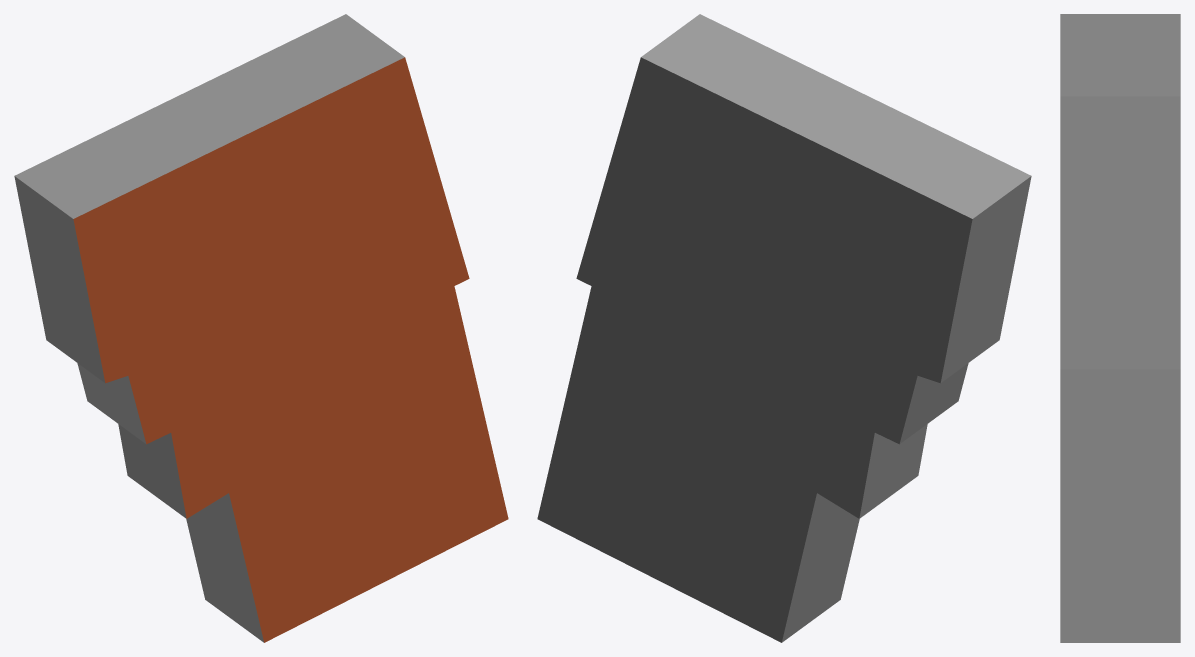
Rendered from construction_6741_assumed_A_Casa_h6m.obj.
3 views of the same model, side by side, from view 1: azimuth 30°, elevation 25°; view 2: azimuth 150°, elevation 25°; view 3: azimuth 270°, elevation 25° (orthographic).
Visible parts, largest first — view 1: construction_6741_assumed_A_Casa; view 2: construction_6741_assumed_A_Casa; view 3: construction_6741_assumed_A_Casa.
Part boxes in pixels (x1,y1,x2,y2): construction_6741_assumed_A_Casa: [14, 14, 508, 642]; construction_6741_assumed_A_Casa: [537, 14, 1031, 642]; construction_6741_assumed_A_Casa: [1060, 14, 1180, 642].
Bounding box in the file's own units: 25.53 × 30.91 × 6.
